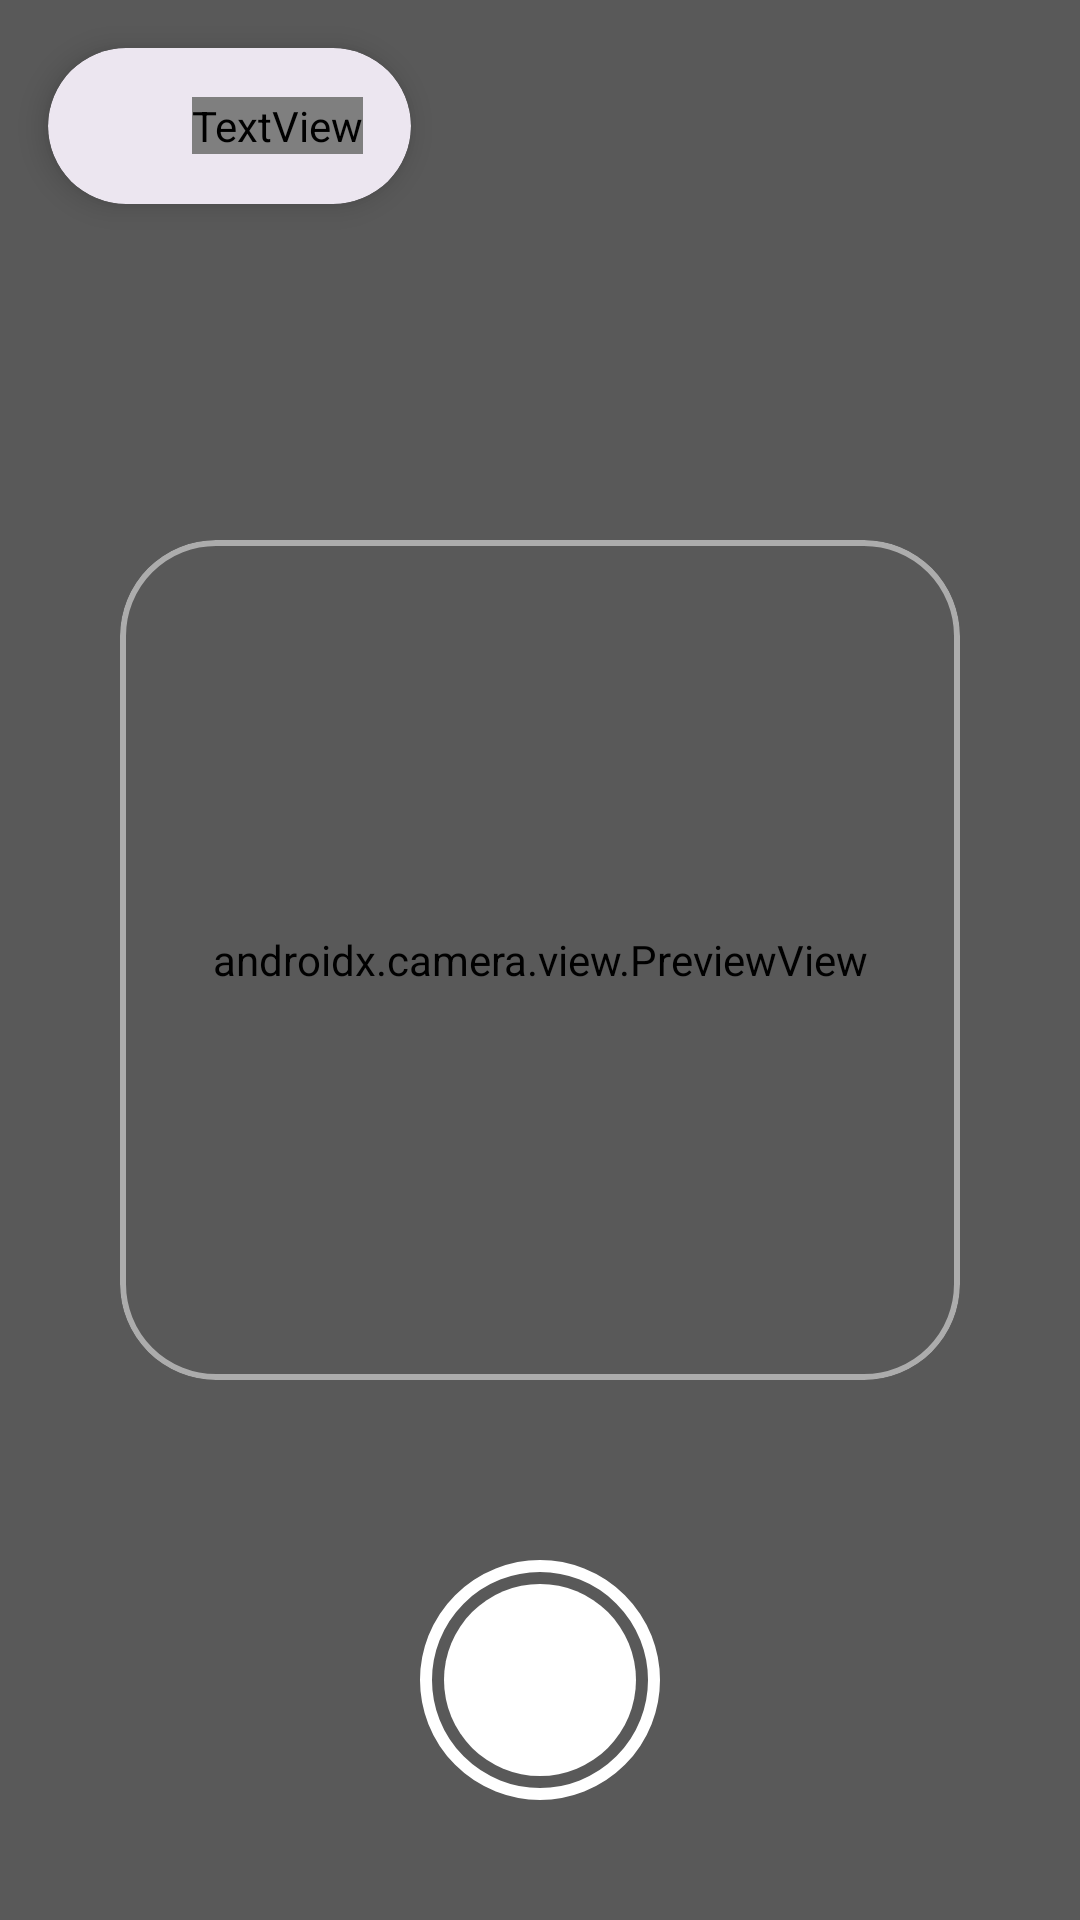

Icon click points for this 1080px x 1920px phone screenshot, format (x=x, y=y):
Take a Photo: (x=540, y=1680)
